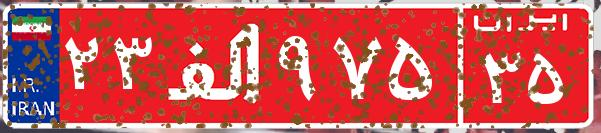2: (57, 26, 110, 107)
3: (475, 38, 525, 113), (110, 28, 158, 105)
5: (385, 28, 445, 110), (525, 38, 570, 115)
7: (330, 28, 385, 110)
9: (273, 28, 330, 110)
الف: (158, 15, 273, 115)
